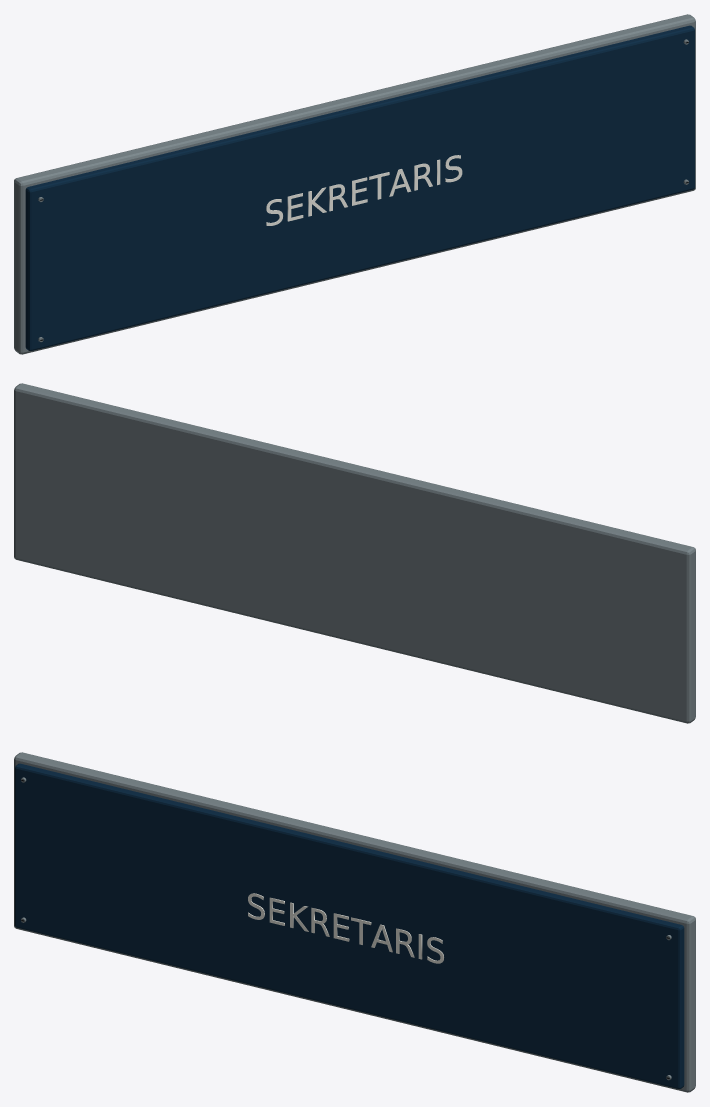
The model's file is OAA_Papan_Ruang_Sekretaris.fbx.
The picture shows the model from 3 angles, top to bottom: view 1: azimuth 30°, elevation 25°; view 2: azimuth 150°, elevation 25°; view 3: azimuth 330°, elevation 25°; orthographic projection.
Visible parts, largest first — view 1: Body; view 2: Body; view 3: Body.
Boxes of the visible parts, left/top/right/bottom form: Body: left=14, top=14, right=695, bottom=354; Body: left=14, top=383, right=695, bottom=723; Body: left=14, top=752, right=695, bottom=1092.
Bounding box in the file's own units: 0.9 × 0.22 × 0.0312.
